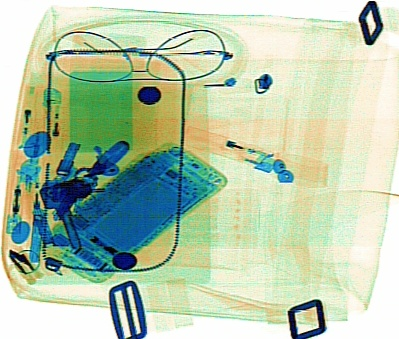lighter: (178, 118, 280, 173), (4, 148, 31, 235), (38, 84, 62, 175), (12, 78, 39, 155), (18, 160, 42, 245)
